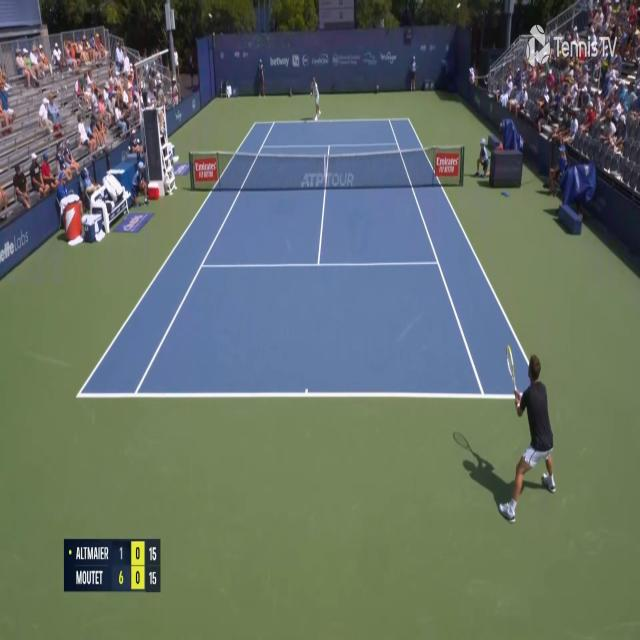tennis-player: (500, 349, 560, 526), (308, 75, 322, 122)
